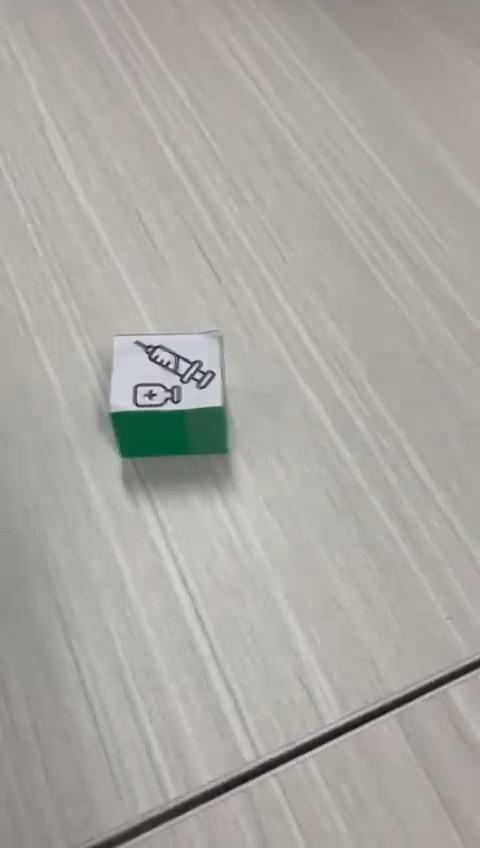antiseptic cream: (107, 328, 229, 458)
